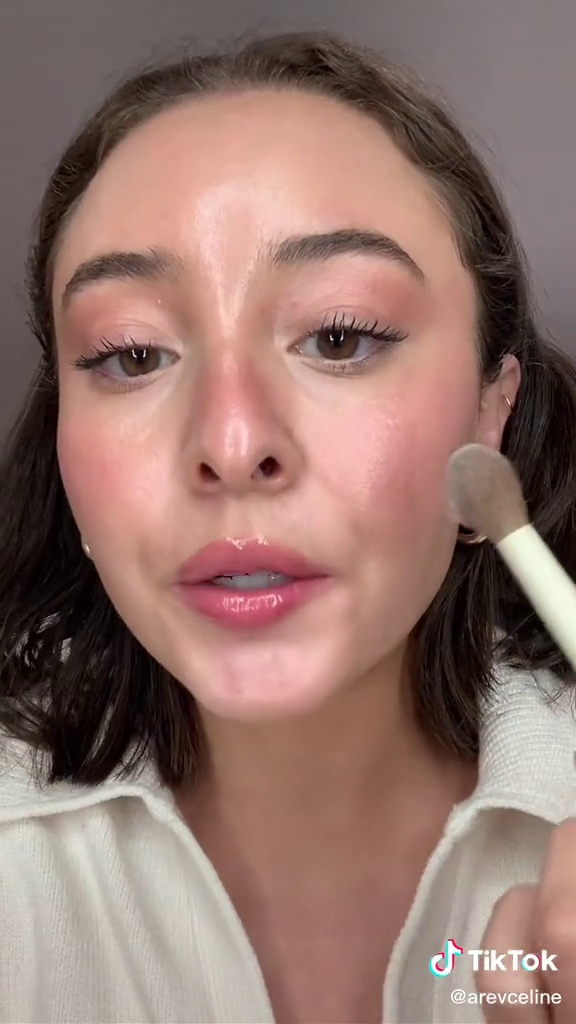train' :'yolo_data/train/images',: (441, 433, 576, 688)
